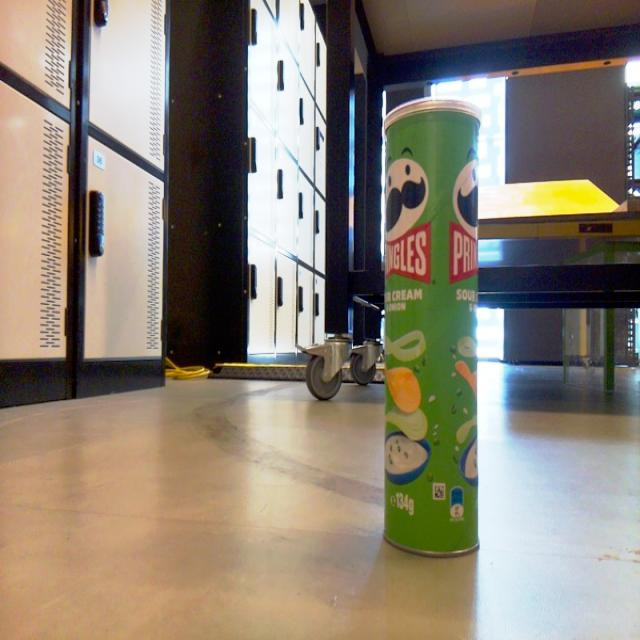greenpringles: (375, 83, 493, 580)
